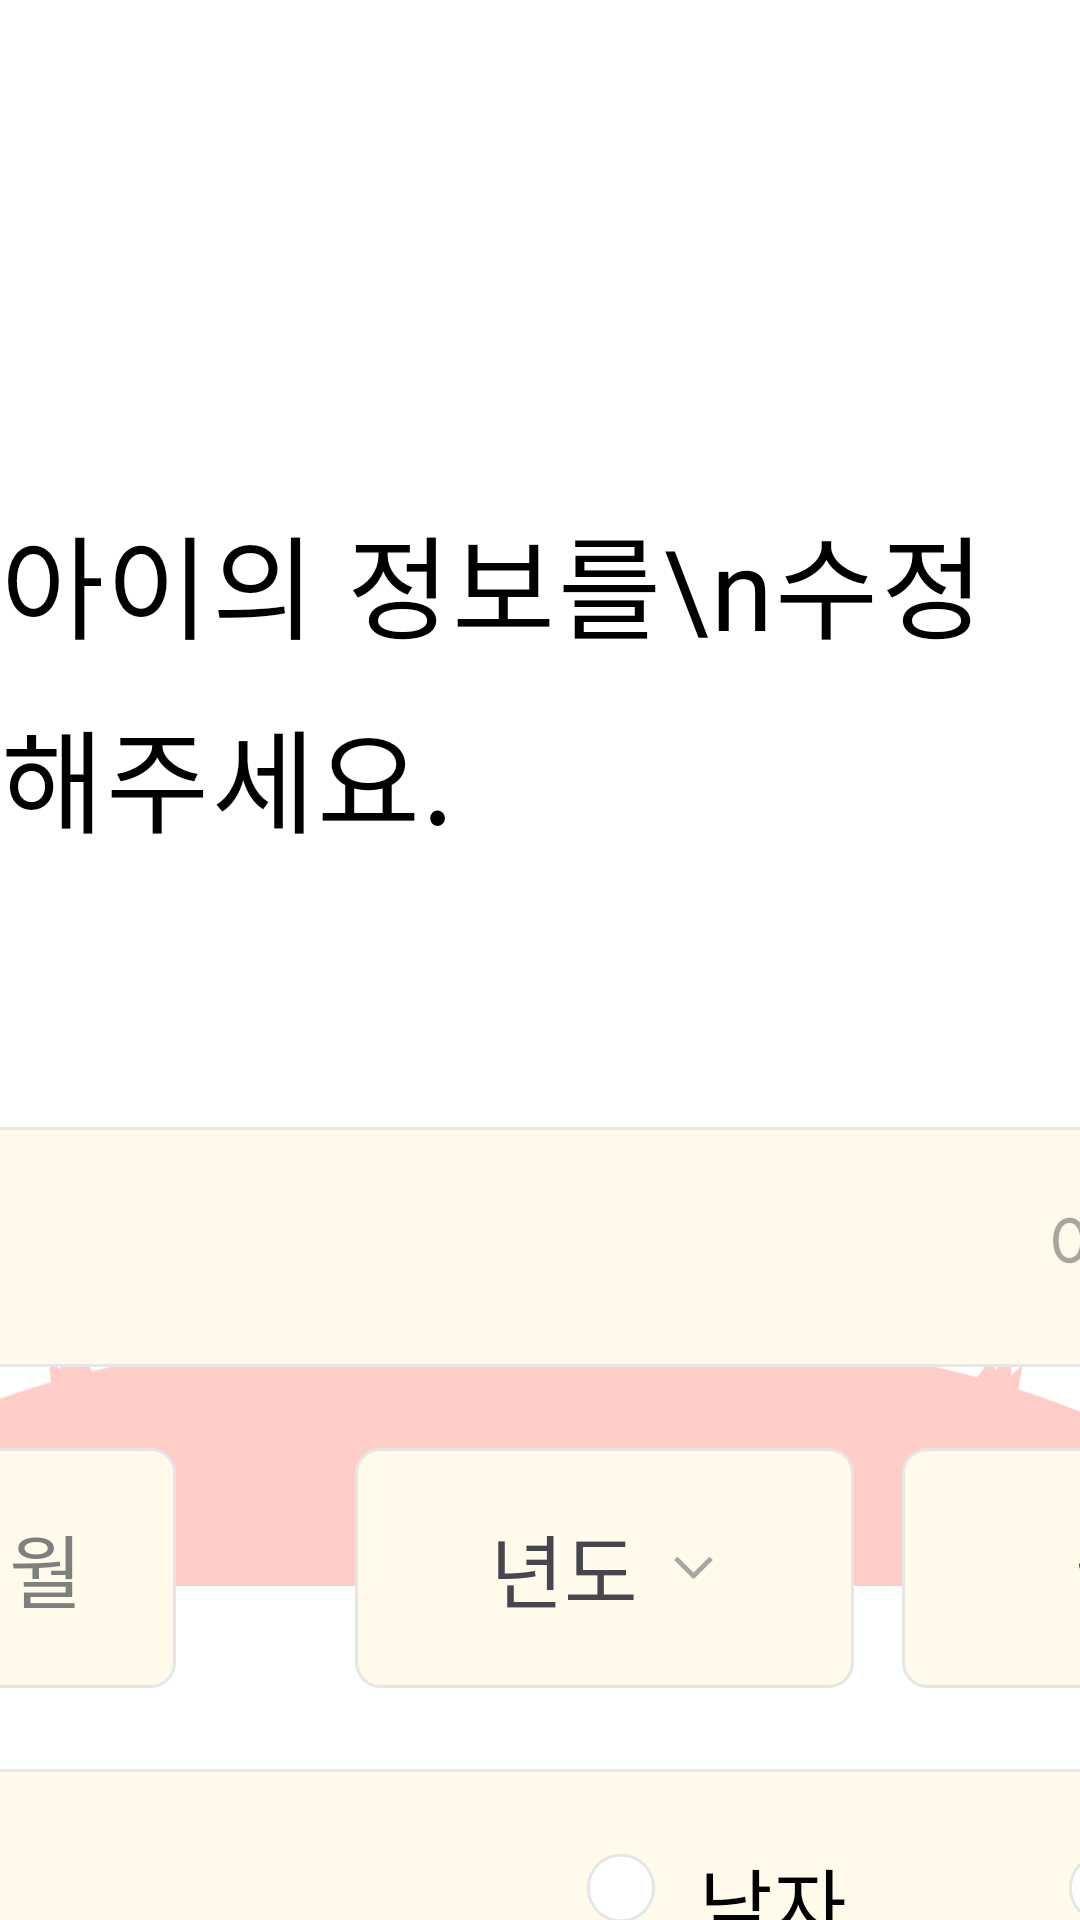

Where icons sit on this 1080w x 1920h app screen, as [left=x1, top=y1, right=x2, bottom=y2]:
down arrow: [left=674, top=1557, right=713, bottom=1579]
